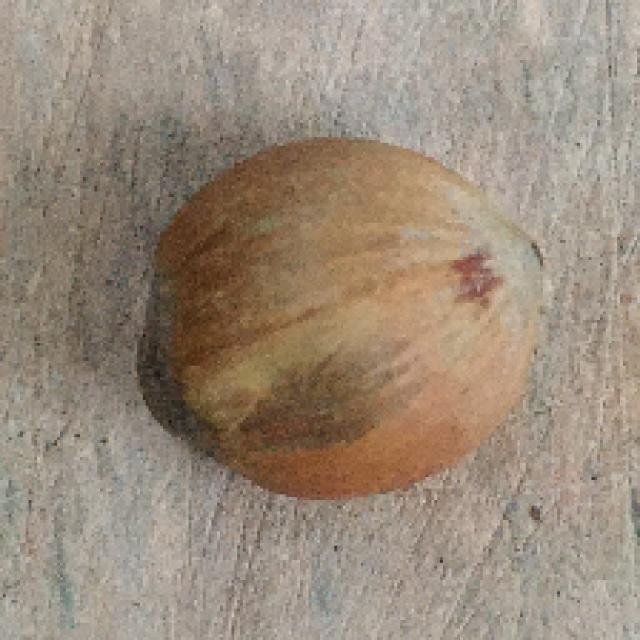qualityHazelnut: (132, 132, 554, 500)
